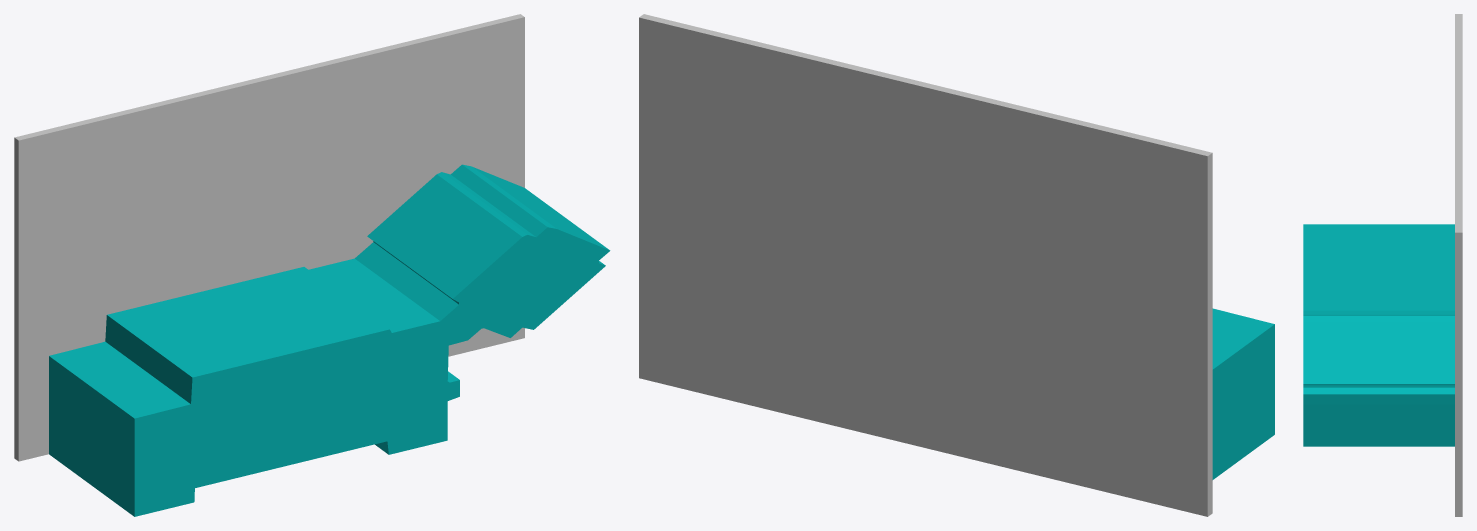
The picture shows the model from 3 angles, left to right: view 1: azimuth 30°, elevation 25°; view 2: azimuth 150°, elevation 25°; view 3: azimuth 270°, elevation 25°; orthographic projection. The views are drawn at different scales.
Parts seen in each view (by area): view 1: world; view 2: world; view 3: world.
Part boxes in pixels (<box>): world: <box>14,14,610,516</box>; world: <box>639,14,1274,516</box>; world: <box>1303,14,1462,516</box>.
Bounding box in the file's own units: 10.23 × 6.2 × 3.15.
